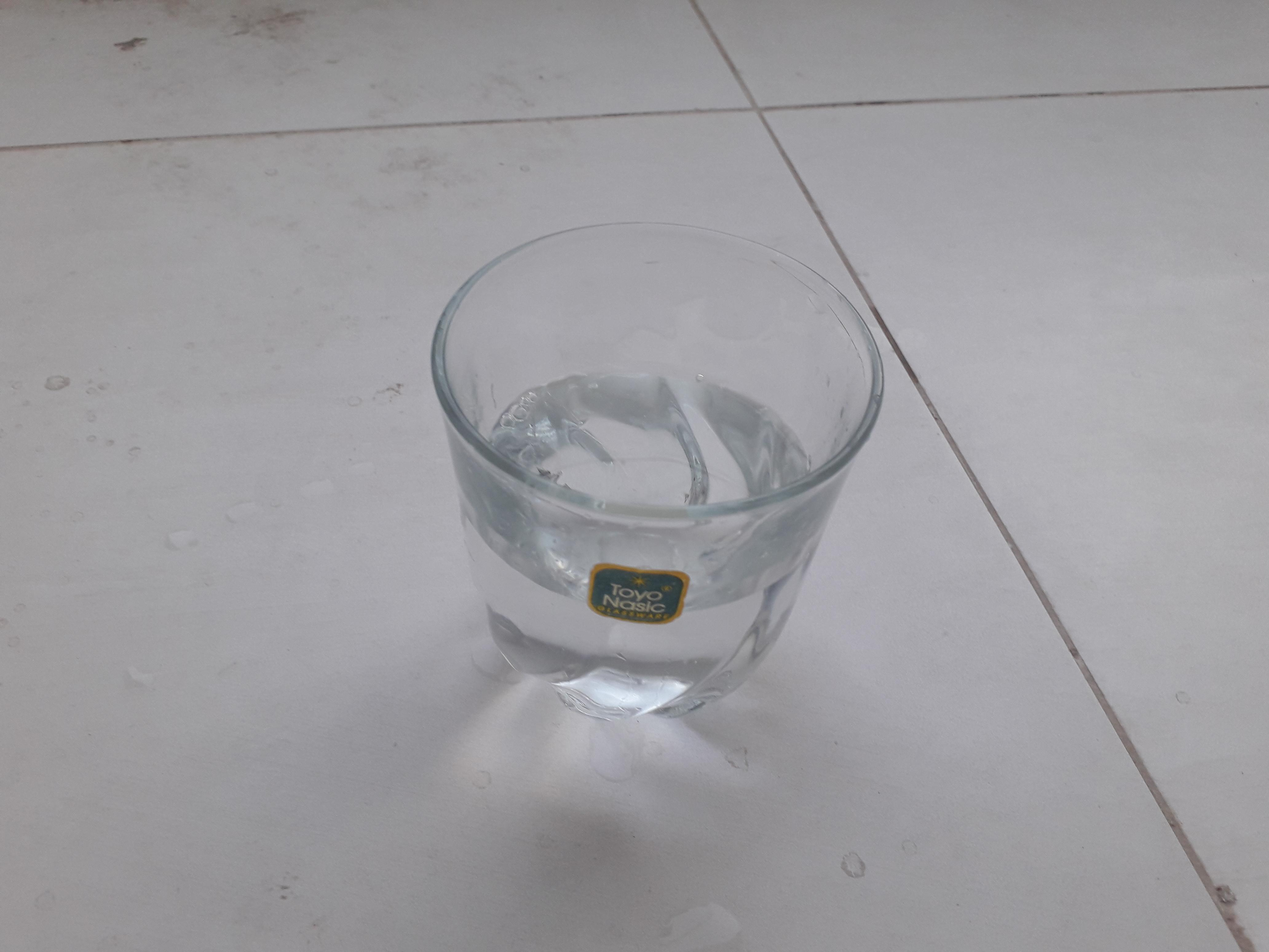glass-normal: (433, 216, 889, 729)
